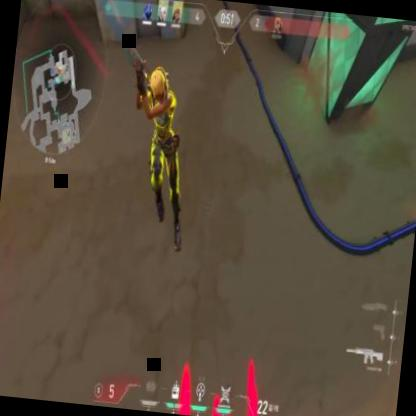enemy: (118, 58, 199, 252)
enemy_head: (147, 66, 170, 107)
